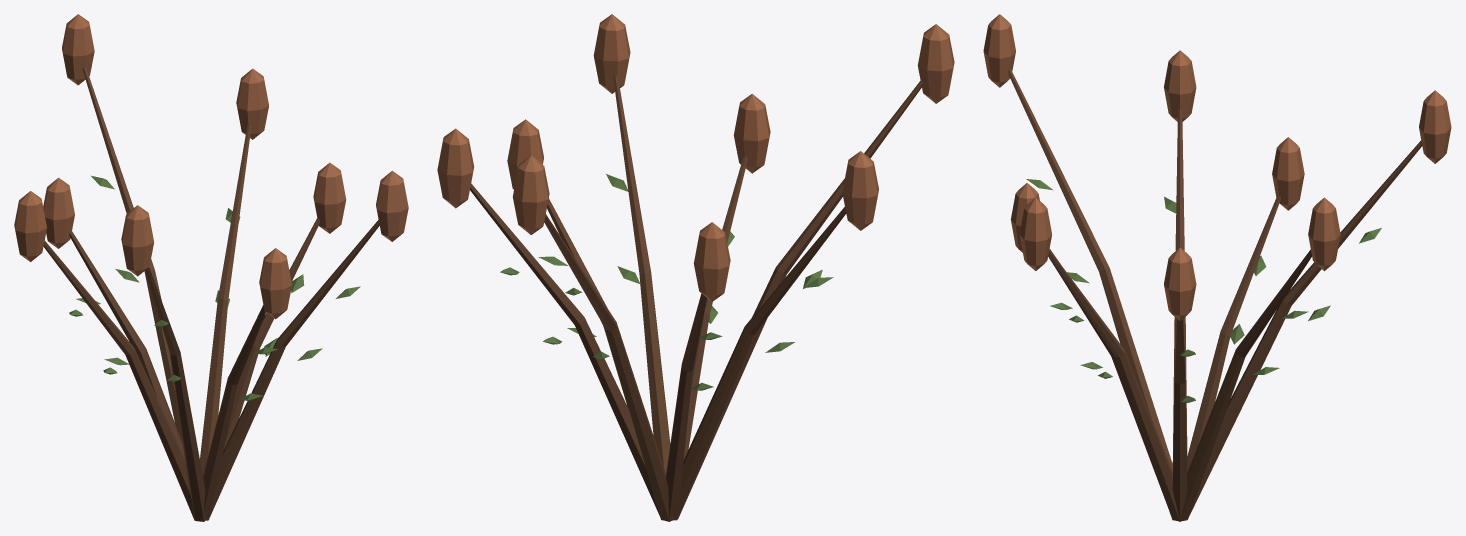
The model's file is Plant_Feature_Desert_OcotilloFan_001.glb.
The picture shows the model from 3 angles, left to right: view 1: azimuth 30°, elevation 25°; view 2: azimuth 150°, elevation 25°; view 3: azimuth 270°, elevation 25°; orthographic projection. The views are drawn at different scales.
Visible parts, largest first — view 1: Plant_Feature_Desert_OcotilloFan_001; view 2: Plant_Feature_Desert_OcotilloFan_001; view 3: Plant_Feature_Desert_OcotilloFan_001.
Part boxes in pixels (x1,y1,x2,y2): Plant_Feature_Desert_OcotilloFan_001: (14,14,408,521); Plant_Feature_Desert_OcotilloFan_001: (437,14,954,521); Plant_Feature_Desert_OcotilloFan_001: (983,14,1451,521).
Bounding box in the file's own units: 1.93 × 2.32 × 2.29.
